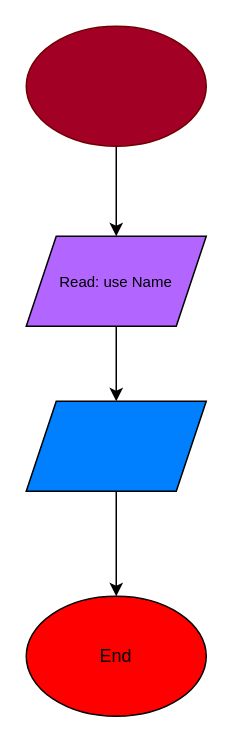
The diagram is 233 pixels wide and 743 high, and some of its shapes have lost their labels. Each missing label, with the centre of its shape:
Print: use Name: point 115,445
Start: point 115,85
